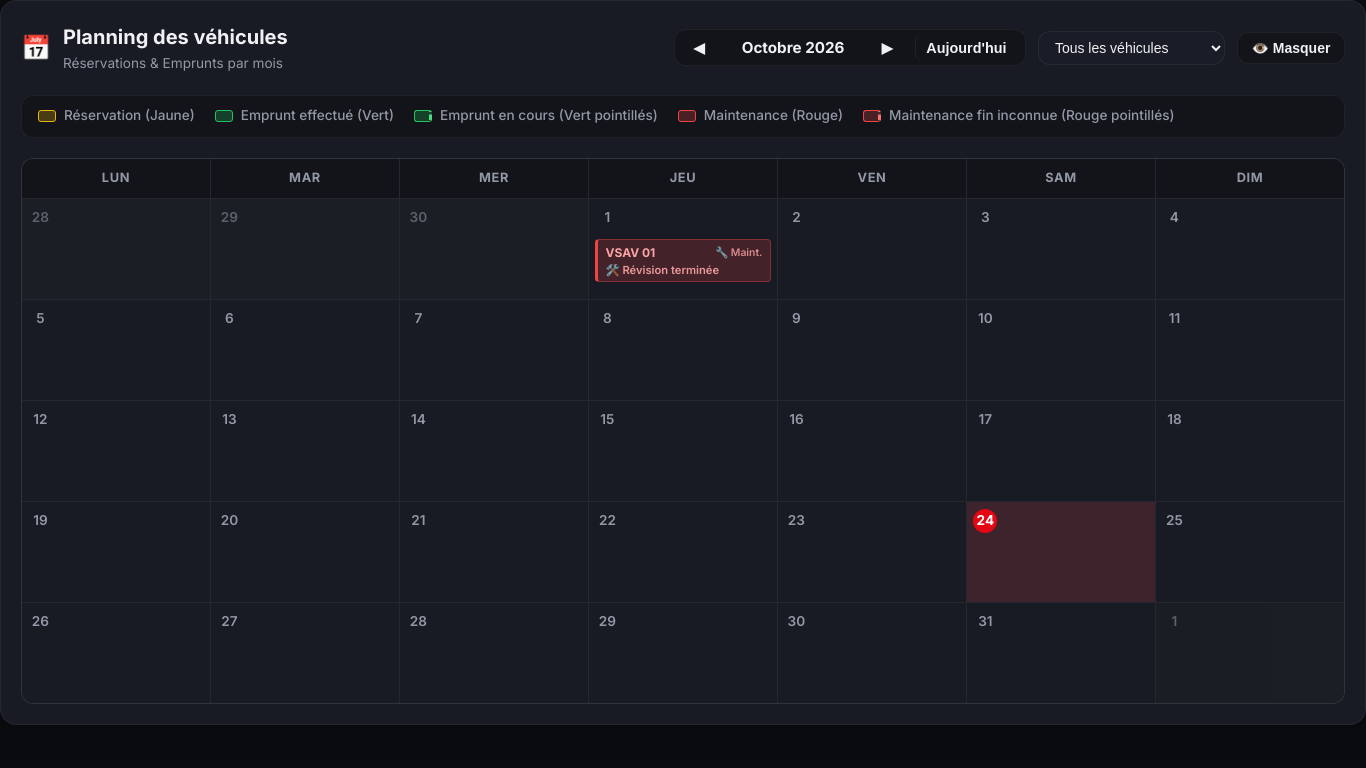
Test: VehicleCalendar — modifier / supprimer une maintenance › masque les actions sur une maintenance terminée, même pour un ADMIN
Click the element titled "Révision terminée": (683, 261) [595,239,771,282]
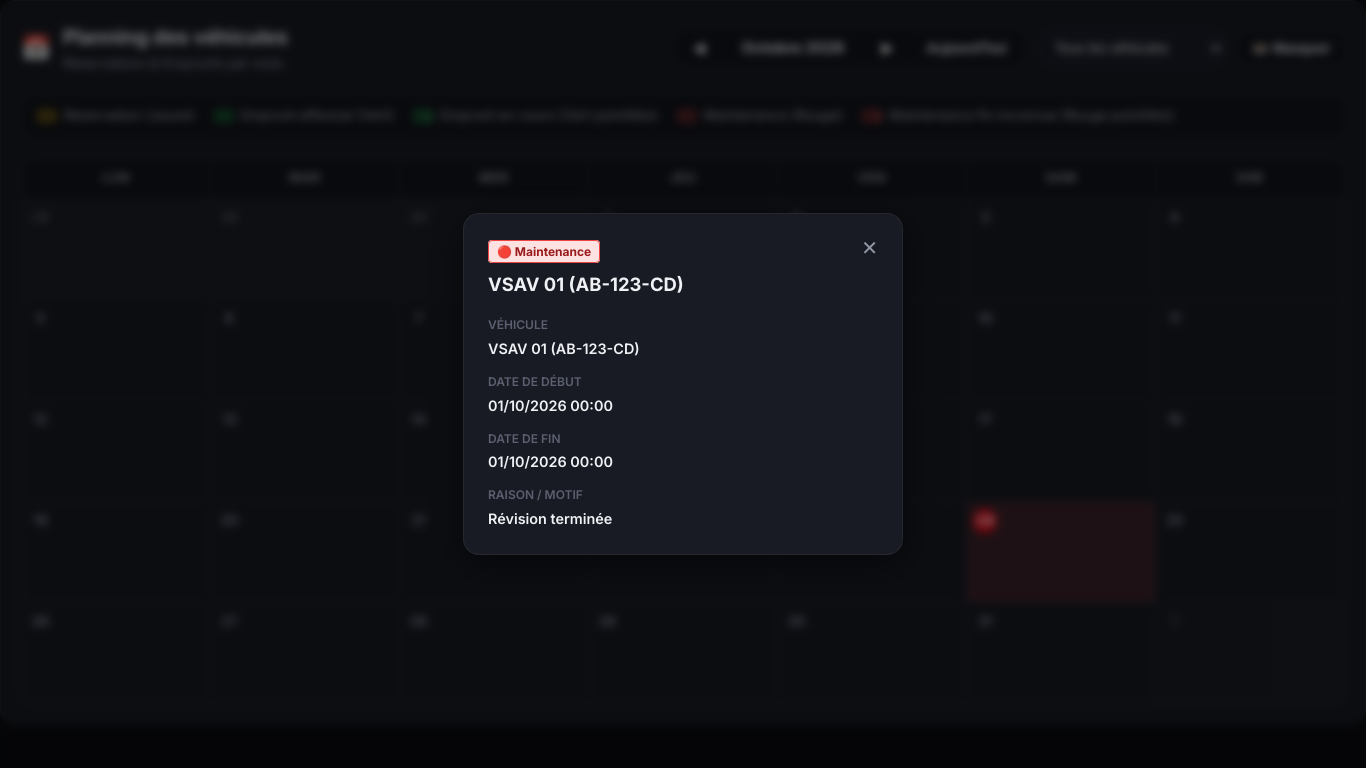
Expected: the text "Raison / Motif" is shown, [488,487,583,502]
Expected: the text "Révision terminée" is shown, [488,510,612,527]
